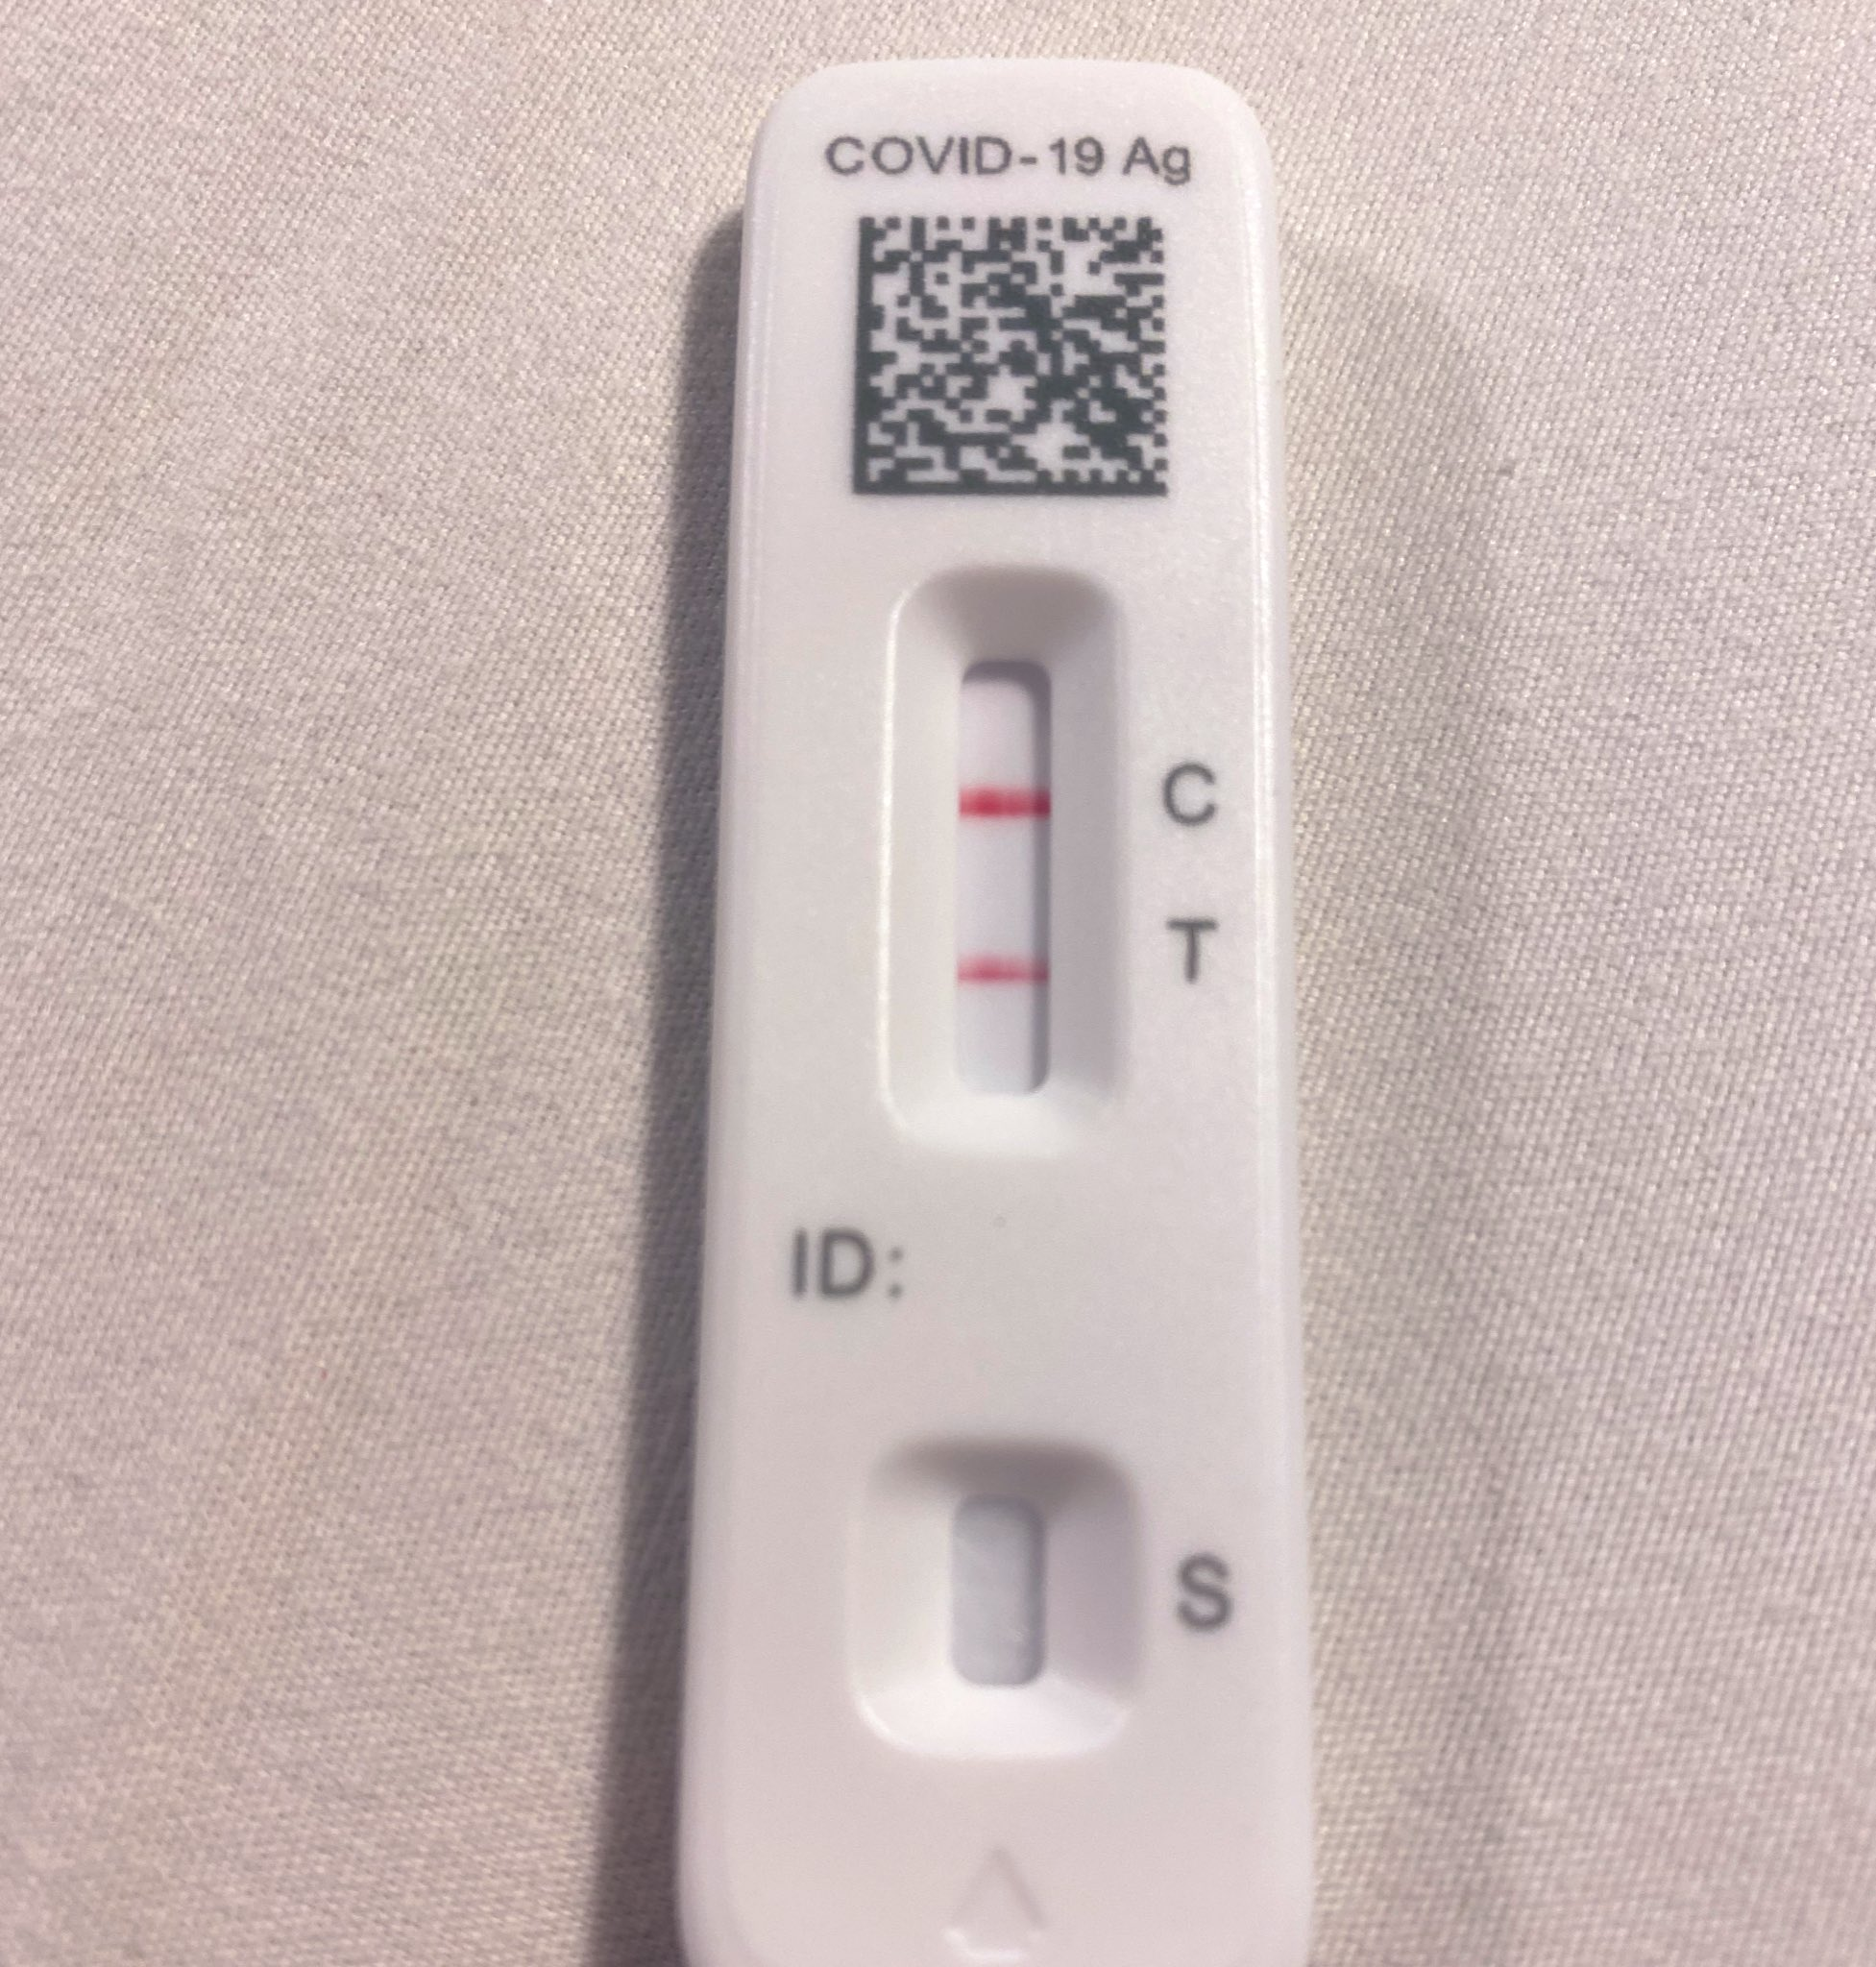positive: (880, 581, 1115, 1136)
